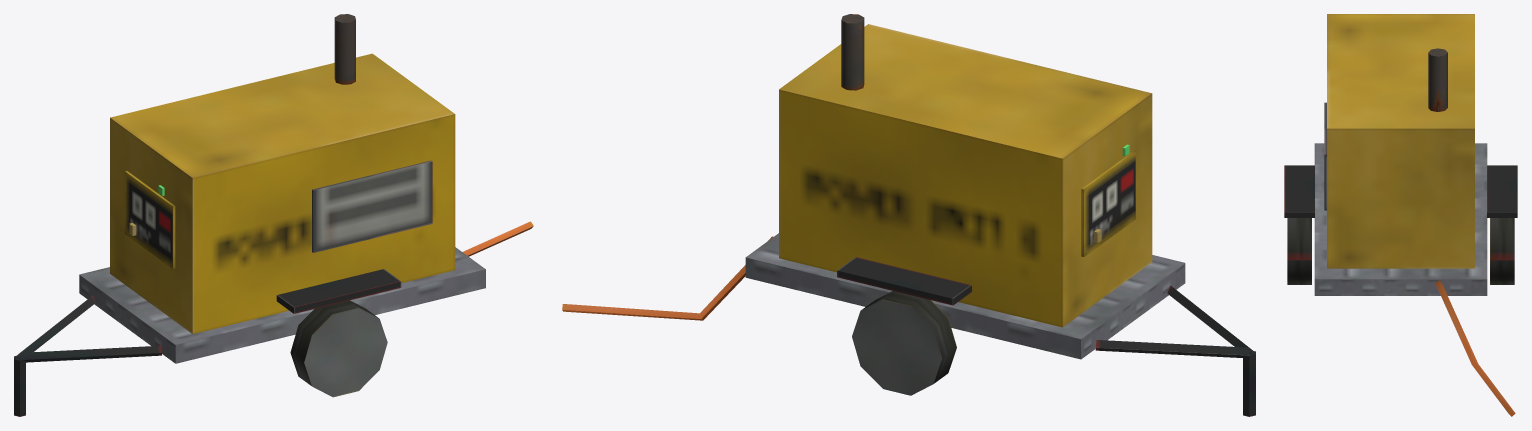
The model's file is generator_trailer.obj.
The picture shows the model from 3 angles, left to right: view 1: azimuth 30°, elevation 25°; view 2: azimuth 150°, elevation 25°; view 3: azimuth 270°, elevation 25°; orthographic projection. The views are drawn at different scales.
Parts seen in each view (by area): view 1: generator_trailer_unit, generator_trailer; view 2: generator_trailer_unit, generator_trailer; view 3: generator_trailer_unit, generator_trailer.
Part boxes in pixels (bbox=[...]): generator_trailer_unit: bbox=[110, 14, 455, 333]; generator_trailer: bbox=[14, 221, 533, 416]; generator_trailer_unit: bbox=[779, 14, 1152, 327]; generator_trailer: bbox=[562, 233, 1255, 416]; generator_trailer_unit: bbox=[1324, 14, 1474, 268]; generator_trailer: bbox=[1284, 143, 1517, 416].
Bounding box in the file's own units: 4.86 × 2.37 × 1.89.
Materials: 1 (1 with a texture image).
